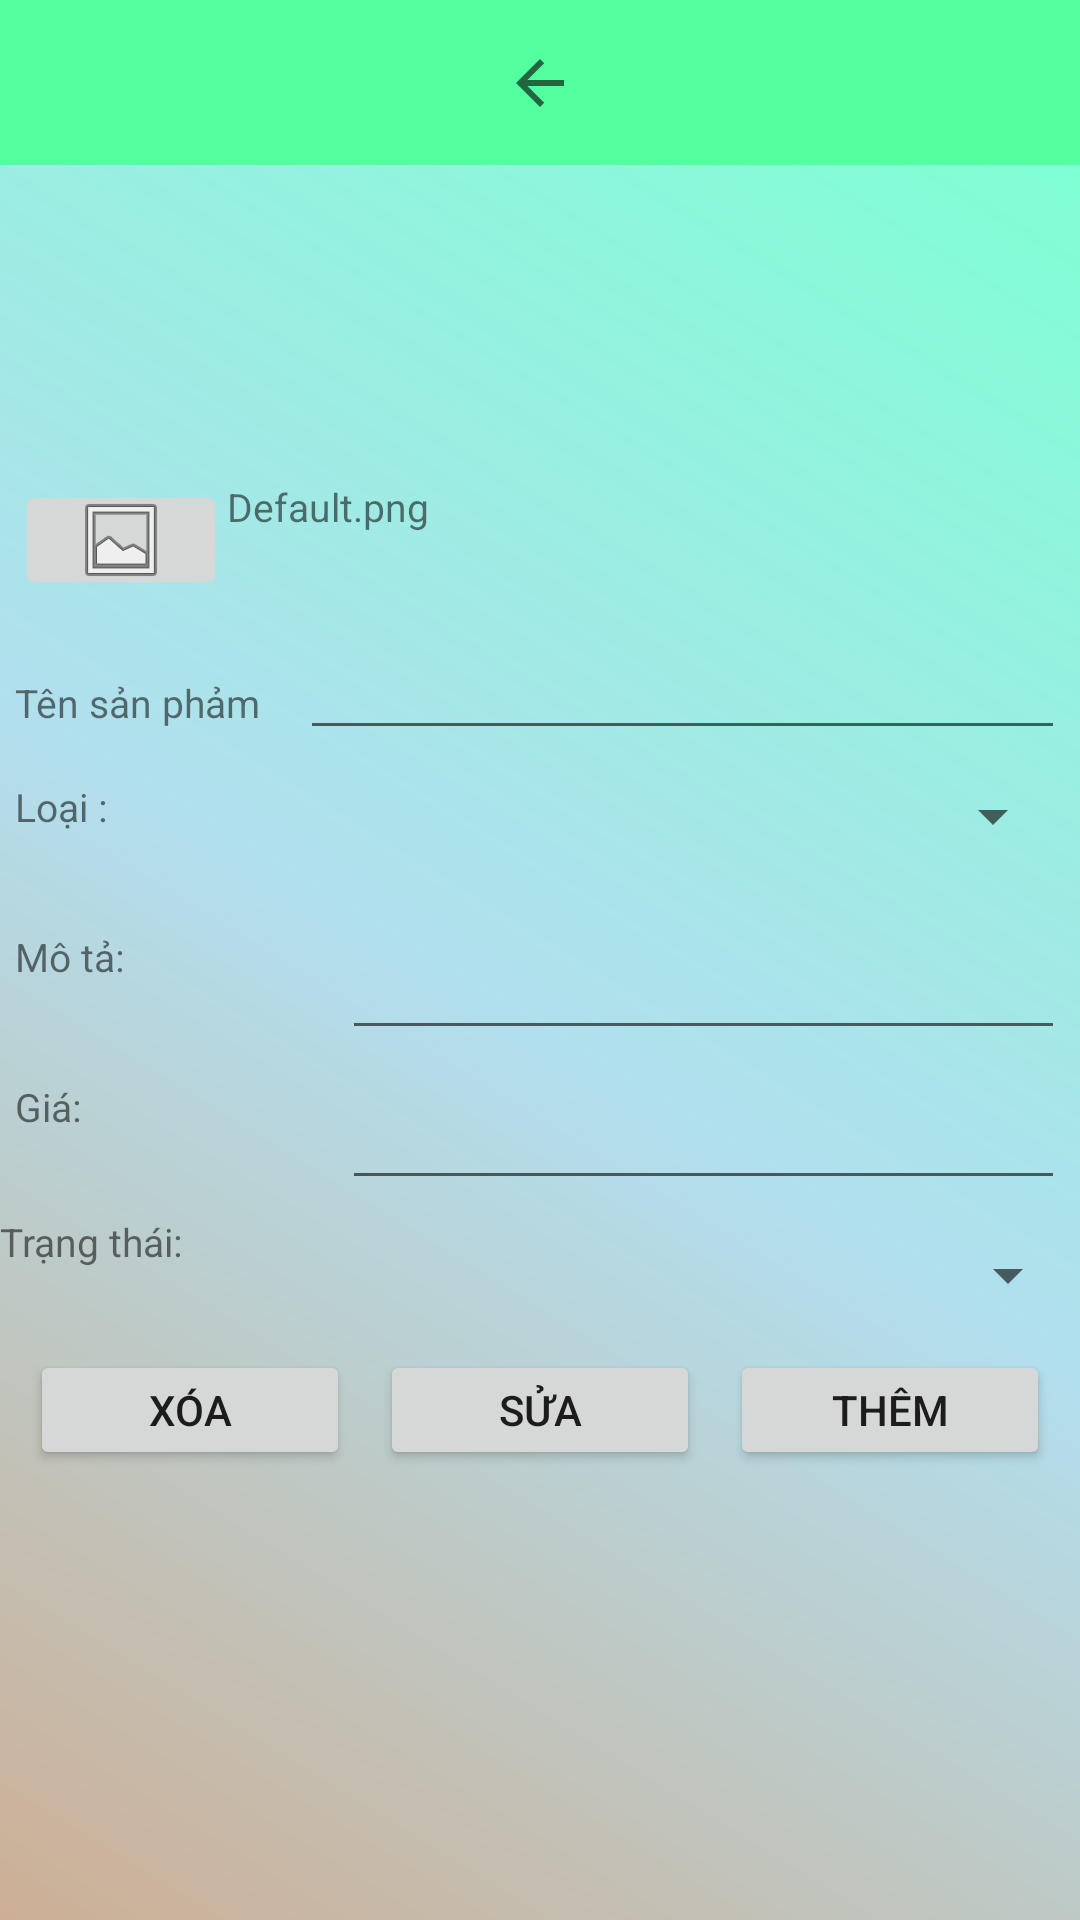

Point at icon controls on the screen. Image size 1080×1920, points as (x,y).
gallery: (121,540)
